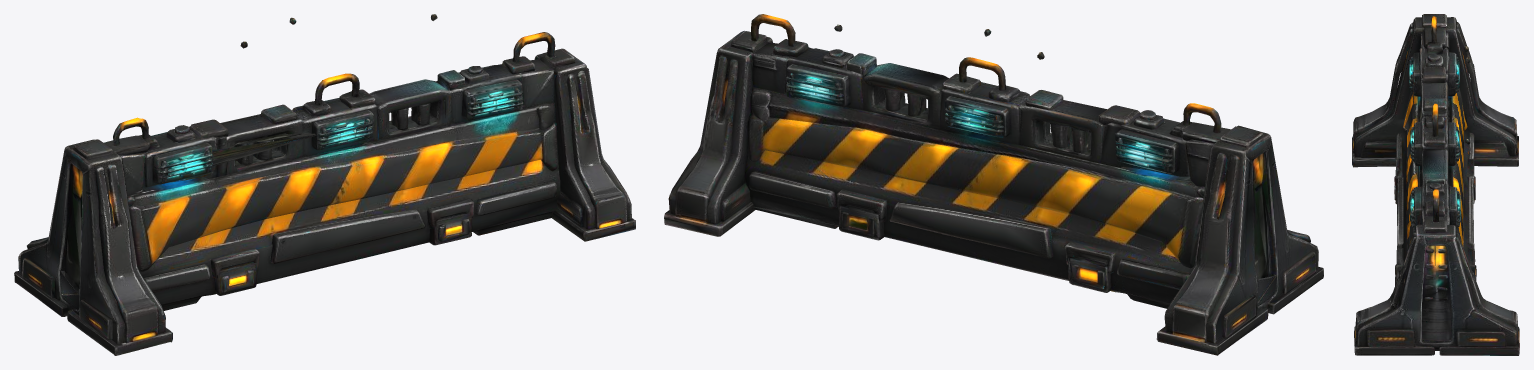
File: transit-barrier-v2.glb
The picture shows the model from 3 angles, left to right: view 1: azimuth 30°, elevation 25°; view 2: azimuth 150°, elevation 25°; view 3: azimuth 270°, elevation 25°; orthographic projection. The views are drawn at different scales.
Visible parts, largest first — view 1: Mesh_0; view 2: Mesh_0; view 3: Mesh_0.
Boxes of the visible parts, x1,y1,x2,y2 form: Mesh_0: (14, 14, 635, 355); Mesh_0: (664, 14, 1323, 355); Mesh_0: (1352, 14, 1519, 355).
Size of the model in its own units: 2.38 by 1 by 0.807.
Materials: 1 (1 with a texture image).
